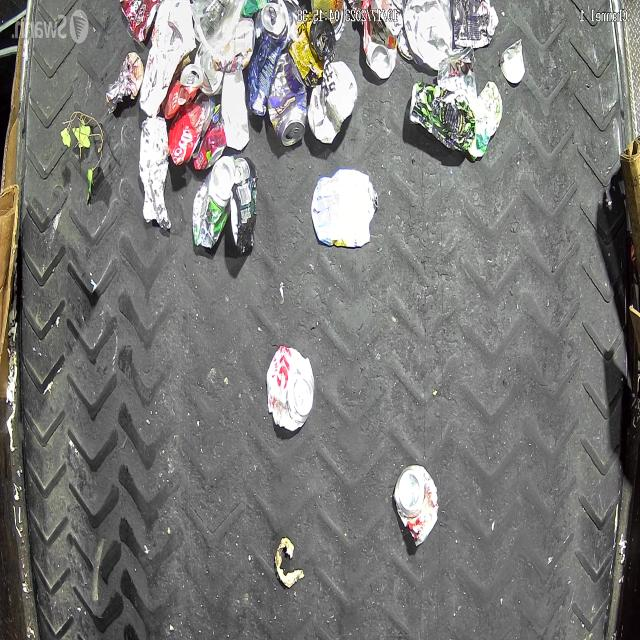can: (267, 350, 315, 444), (193, 156, 235, 248), (393, 465, 438, 547), (268, 53, 306, 146), (288, 14, 336, 85), (255, 2, 288, 77), (364, 34, 397, 77), (176, 64, 204, 104)
